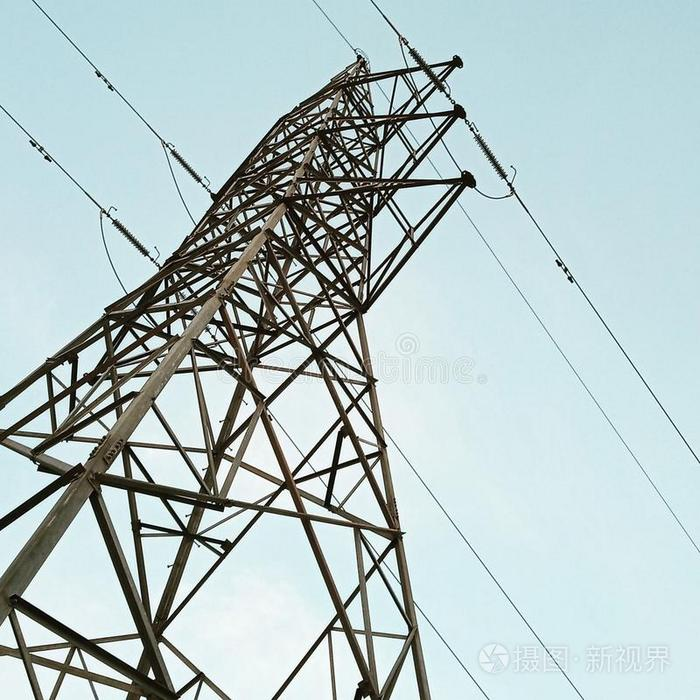insulator: (408, 45, 447, 96), (472, 136, 509, 181), (112, 219, 150, 259), (168, 145, 204, 184)
